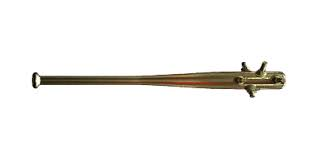baseball bat: (31, 70, 286, 90)
